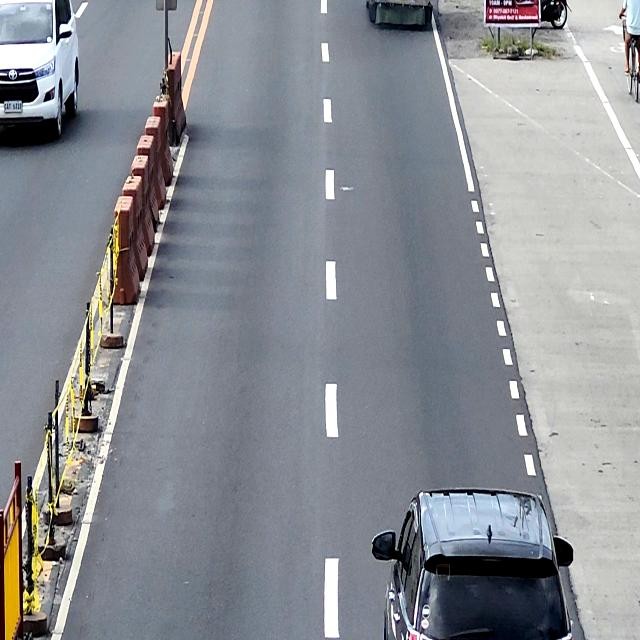Bicycle: (620, 12, 640, 102)
Car: (371, 487, 574, 639), (0, 0, 79, 138)
License-Plate: (3, 98, 23, 114)
